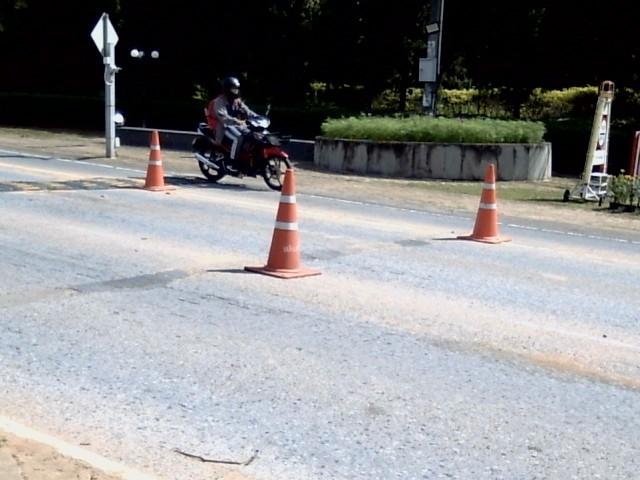helmet: (221, 76, 239, 101)
motor: (192, 115, 291, 189)
person: (207, 76, 256, 166)
